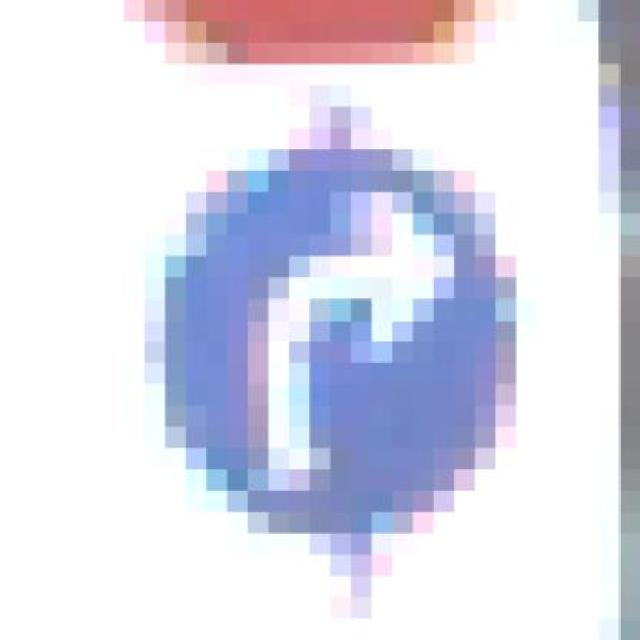Turn right ahead: (122, 126, 556, 574)
